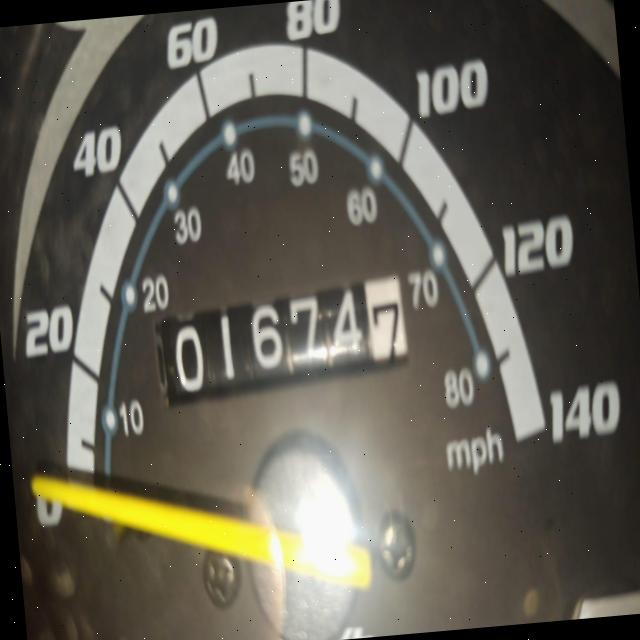odometer: (150, 273, 416, 414)
